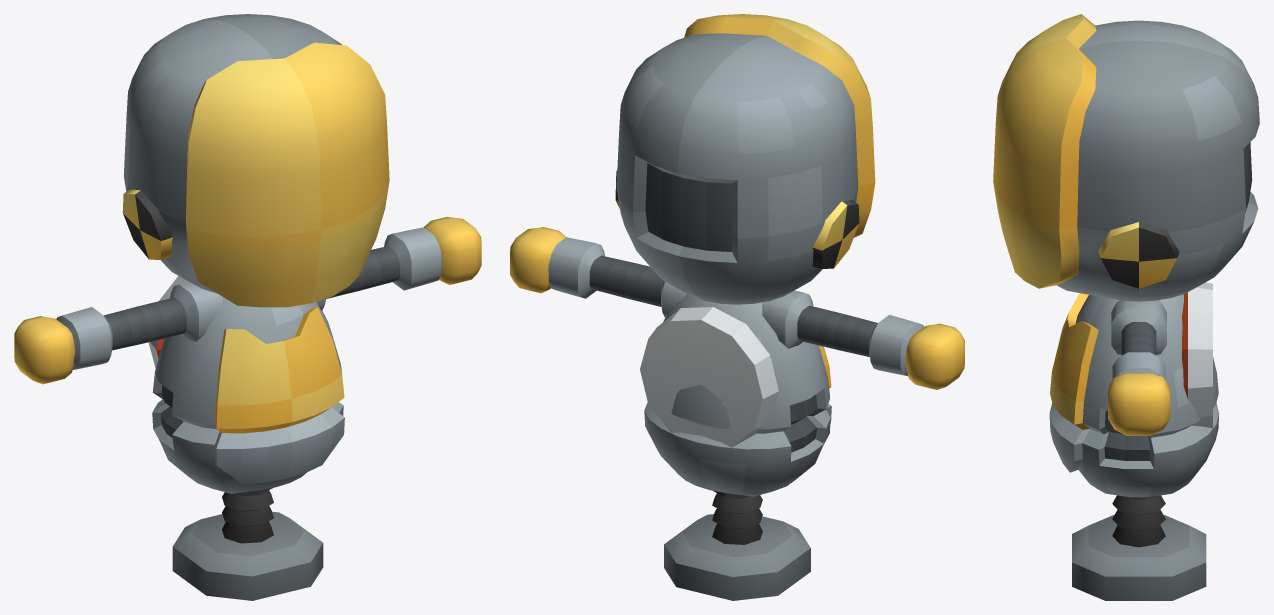
The model's file is customer3.glb.
3 views of the same model, side by side, from view 1: azimuth 30°, elevation 25°; view 2: azimuth 150°, elevation 25°; view 3: azimuth 270°, elevation 25° (orthographic). The views are drawn at different scales.
Visible parts, largest first — view 1: Dummy_Body; view 2: Dummy_Body; view 3: Dummy_Body.
Part boxes in pixels (x1,y1,x2,y2): Dummy_Body: (14, 14, 481, 600); Dummy_Body: (510, 14, 964, 600); Dummy_Body: (993, 14, 1259, 600).
Size of the model in its own units: 1.94 by 2.2 by 0.9934.
1 material, 1 textured.
